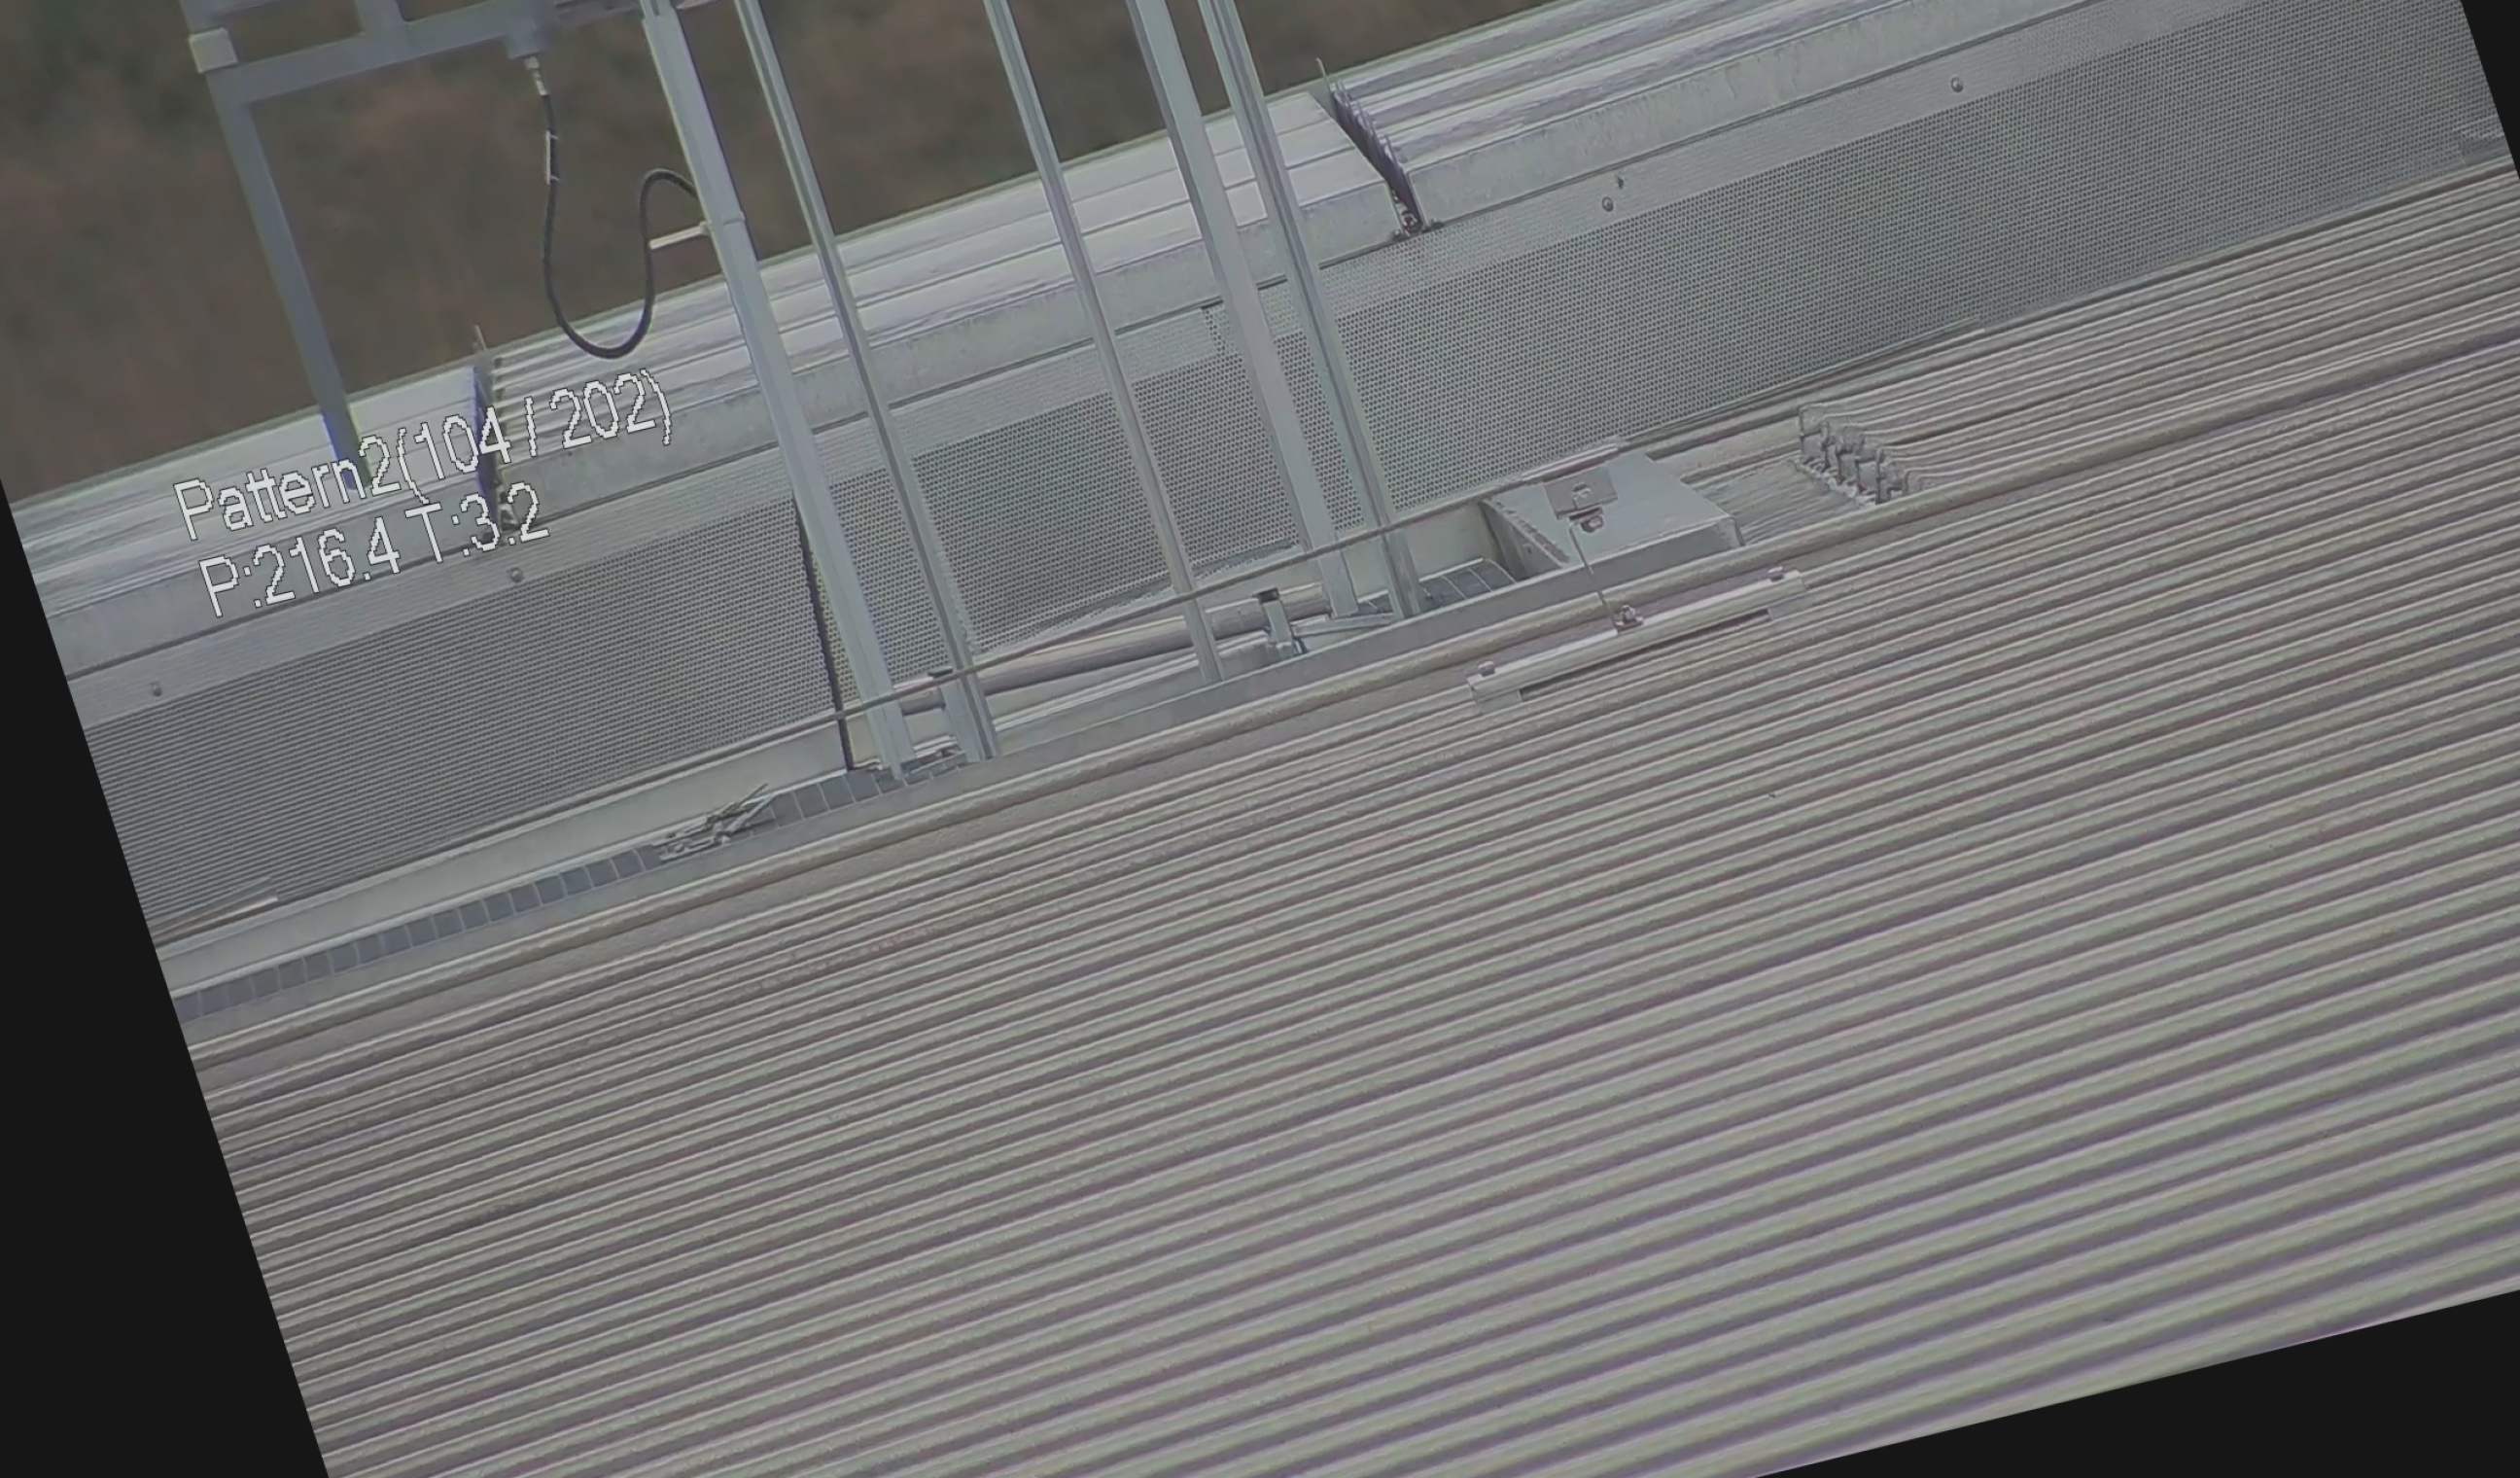Other: (1282, 28, 1442, 255)
